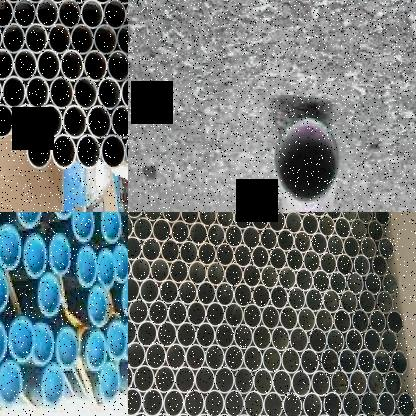pipe: (276, 116, 340, 204), (30, 325, 56, 364), (26, 134, 52, 170), (62, 105, 88, 140), (100, 135, 126, 170), (51, 134, 76, 170), (87, 105, 112, 140), (76, 135, 101, 170), (38, 105, 63, 139), (14, 105, 39, 139), (26, 76, 50, 110), (2, 76, 26, 110), (73, 78, 98, 110), (13, 50, 38, 82), (83, 50, 107, 83), (50, 77, 74, 110), (47, 24, 72, 55), (93, 25, 118, 56), (60, 50, 84, 82), (37, 50, 61, 82), (97, 78, 121, 110), (70, 24, 94, 55), (25, 23, 48, 55), (2, 24, 25, 54), (103, 0, 126, 30), (107, 50, 128, 82), (13, 0, 36, 29), (58, 0, 81, 29), (81, 0, 104, 29), (36, 0, 59, 28), (133, 365, 155, 393), (174, 366, 196, 394), (154, 366, 176, 394), (110, 105, 128, 139), (142, 388, 163, 416), (136, 321, 158, 347), (163, 389, 184, 416), (214, 367, 235, 394), (300, 348, 320, 376), (292, 370, 312, 398), (224, 344, 244, 372), (234, 367, 254, 395), (195, 366, 215, 394), (253, 368, 273, 396), (128, 299, 149, 325), (176, 322, 197, 348), (310, 370, 330, 397), (272, 369, 292, 396), (184, 389, 204, 416), (166, 343, 186, 370), (186, 344, 206, 371), (281, 348, 301, 375), (146, 343, 166, 370), (205, 344, 225, 371), (150, 258, 171, 283), (167, 301, 188, 326), (262, 348, 282, 374), (252, 325, 272, 351), (244, 346, 264, 372), (330, 370, 350, 396), (224, 390, 244, 416), (204, 390, 224, 416), (196, 322, 216, 348), (215, 324, 235, 350), (186, 301, 206, 327), (148, 300, 168, 326), (157, 322, 177, 348), (141, 238, 162, 262), (322, 391, 342, 416), (244, 391, 264, 416), (178, 280, 198, 305), (196, 281, 216, 306), (206, 302, 226, 327), (140, 278, 160, 303), (133, 217, 153, 242), (320, 348, 339, 374), (349, 370, 368, 396), (271, 326, 290, 352), (188, 260, 207, 286), (235, 324, 254, 350), (0, 104, 14, 139), (128, 342, 146, 369), (302, 392, 322, 416), (206, 262, 226, 286), (263, 392, 283, 416), (131, 258, 151, 282), (160, 239, 180, 263), (169, 260, 189, 284), (159, 280, 179, 304), (152, 218, 172, 242), (308, 328, 327, 353), (225, 303, 244, 328), (270, 285, 289, 310), (290, 327, 308, 353), (339, 348, 357, 374), (357, 349, 375, 375), (252, 284, 271, 308), (326, 329, 345, 353), (278, 266, 297, 290), (315, 309, 334, 333), (333, 310, 352, 334), (189, 222, 208, 246), (283, 392, 302, 416), (171, 220, 190, 244), (252, 245, 270, 270), (280, 306, 298, 331), (360, 391, 378, 416), (345, 328, 363, 353), (342, 391, 360, 416), (363, 328, 381, 353), (390, 350, 408, 375), (216, 282, 234, 307), (244, 304, 262, 329), (367, 370, 385, 395), (384, 371, 402, 396), (262, 305, 280, 330), (0, 49, 14, 81), (374, 349, 391, 375), (198, 243, 217, 266), (298, 308, 316, 332), (261, 265, 279, 289), (322, 290, 340, 314), (296, 268, 314, 292), (306, 288, 324, 312), (243, 264, 261, 288), (288, 287, 306, 311), (225, 263, 243, 287), (378, 392, 396, 416), (234, 284, 252, 308), (380, 330, 398, 354), (396, 392, 414, 416), (369, 310, 387, 334), (340, 290, 358, 314), (180, 240, 198, 264), (208, 223, 226, 247), (352, 310, 370, 334), (358, 290, 376, 314), (301, 214, 320, 236), (216, 244, 235, 266), (269, 247, 287, 270), (312, 270, 330, 293), (326, 234, 344, 257), (294, 231, 312, 254), (234, 245, 252, 268), (303, 250, 321, 273), (310, 233, 328, 256), (242, 226, 260, 249), (346, 272, 364, 295), (225, 225, 243, 248), (364, 272, 382, 295), (286, 249, 304, 272), (376, 291, 394, 314), (382, 272, 399, 296), (277, 230, 295, 252), (329, 272, 347, 294), (318, 215, 336, 237), (260, 228, 278, 250), (353, 254, 371, 276), (360, 237, 378, 259), (336, 254, 354, 276), (0, 0, 14, 28), (128, 388, 142, 416), (320, 252, 337, 275), (387, 310, 403, 334), (350, 219, 368, 240), (285, 212, 302, 234), (371, 255, 388, 277), (116, 25, 128, 55), (335, 217, 351, 239), (344, 236, 360, 258), (268, 212, 285, 232), (368, 221, 384, 242), (128, 236, 142, 260), (378, 238, 394, 259), (251, 212, 268, 231), (234, 212, 252, 229), (128, 277, 140, 302), (216, 212, 234, 228), (198, 212, 217, 226), (120, 77, 128, 110), (180, 212, 199, 225), (128, 320, 137, 346), (162, 212, 181, 223), (374, 212, 390, 225), (357, 212, 373, 224), (143, 212, 163, 221), (128, 364, 134, 392), (341, 212, 357, 222), (325, 212, 342, 220), (128, 215, 133, 239), (128, 212, 144, 219), (310, 212, 326, 217)
